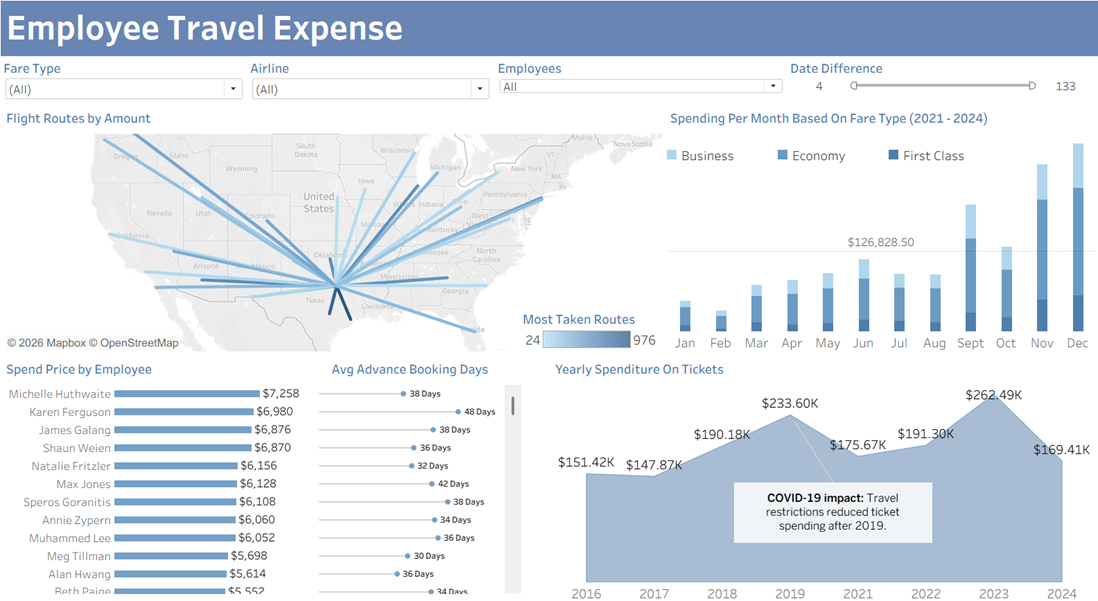

This screenshot's page, from the dashboard's own definition file:
{"tool":"tableau","page":{"name":"Employee Travel Expense","canvas":[1600,900],"ordinal":0},"visuals":[{"type":"text","box":[8,8,1584,73]},{"type":"filter","title":"Spending Per Month Fare Type","param":"[federated.1wll1h40mvf1v21cxtzqo1hg4zua].[none:Fare Type:nk]","box":[8,88,356.3,68]},{"type":"filter","title":" Map","param":"[federated.1wll1h40mvf1v21cxtzqo1hg4zua].[none:Airline:nk]","box":[364.3,88,356.4,68]},{"type":"parameter","param":"[Parameters].[Parameter 1]","box":[720.7,88,422.4,68]},{"type":"filter","title":"Avg Advance Booking Days","param":"[federated.1wll1h40mvf1v21cxtzqo1hg4zua].[none:Date Difference:qk]","box":[1143,88,449,68]},{"type":"worksheet","title":" Map","mark":"Line","rows":["Latitude"],"cols":["Longitude"],"box":[8,156,958,362]},{"type":"worksheet","title":"Spending Per Month Fare Type","mark":"Bar","rows":["Ticket Price"],"cols":["Travel Date"],"box":[966,156,625.9,362]},{"type":"legend","title":"Spending Per Month Fare Type","param":"[federated.1wll1h40mvf1v21cxtzqo1hg4zua].[none:Fare Type:nk]","box":[964,192,516,56]},{"type":"legend","title":" Map","param":"[federated.1wll1h40mvf1v21cxtzqo1hg4zua].[sum:Calculation_0978902367870976:qk]","box":[761,454,197,63]},{"type":"worksheet","title":"Avg Advance Booking Days","mark":"Circle","rows":["Person"],"cols":["Ticket Price","Date Difference","Date Difference"],"box":[8,518,792,374]},{"type":"worksheet","title":"Yearly Spending","mark":"Area","rows":["Ticket Price"],"cols":["Travel Date"],"box":[800,518,792,374]}]}

Visuals, with their boxes in screenshot pixels (x1, y1, x2, y2), scaled from the page's 1600x900 canvas onto the 1098x601 screenshot:
text: rect(5, 5, 1093, 54)
"Spending Per Month Fare Type" filter: rect(5, 59, 250, 104)
" Map" filter: rect(250, 59, 495, 104)
parameter: rect(495, 59, 784, 104)
"Avg Advance Booking Days" filter: rect(784, 59, 1093, 104)
" Map" worksheet (Line marks): rect(5, 104, 663, 346)
"Spending Per Month Fare Type" worksheet (Bar marks): rect(663, 104, 1092, 346)
"Spending Per Month Fare Type" legend: rect(662, 128, 1016, 166)
" Map" legend: rect(522, 303, 657, 345)
"Avg Advance Booking Days" worksheet (Circle marks): rect(5, 346, 549, 596)
"Yearly Spending" worksheet (Area marks): rect(549, 346, 1093, 596)
